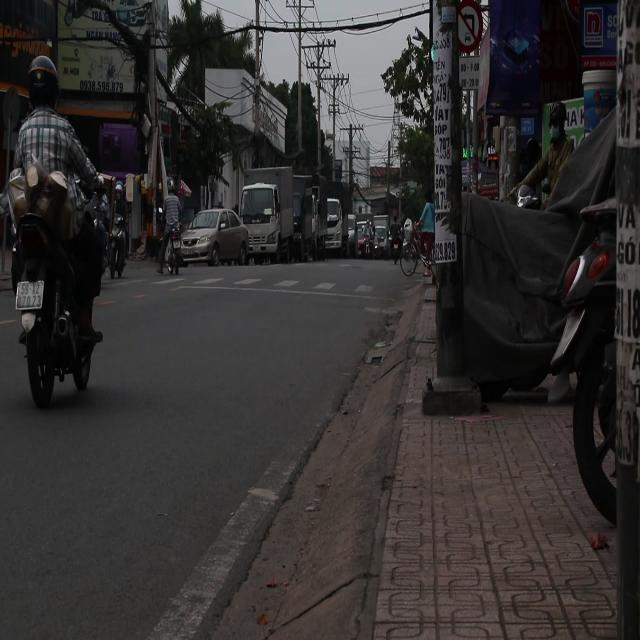car: (180, 208, 251, 266)
motorbike: (8, 156, 100, 396), (108, 214, 128, 284), (162, 226, 184, 276)
truck: (236, 169, 300, 262), (311, 182, 344, 259)
